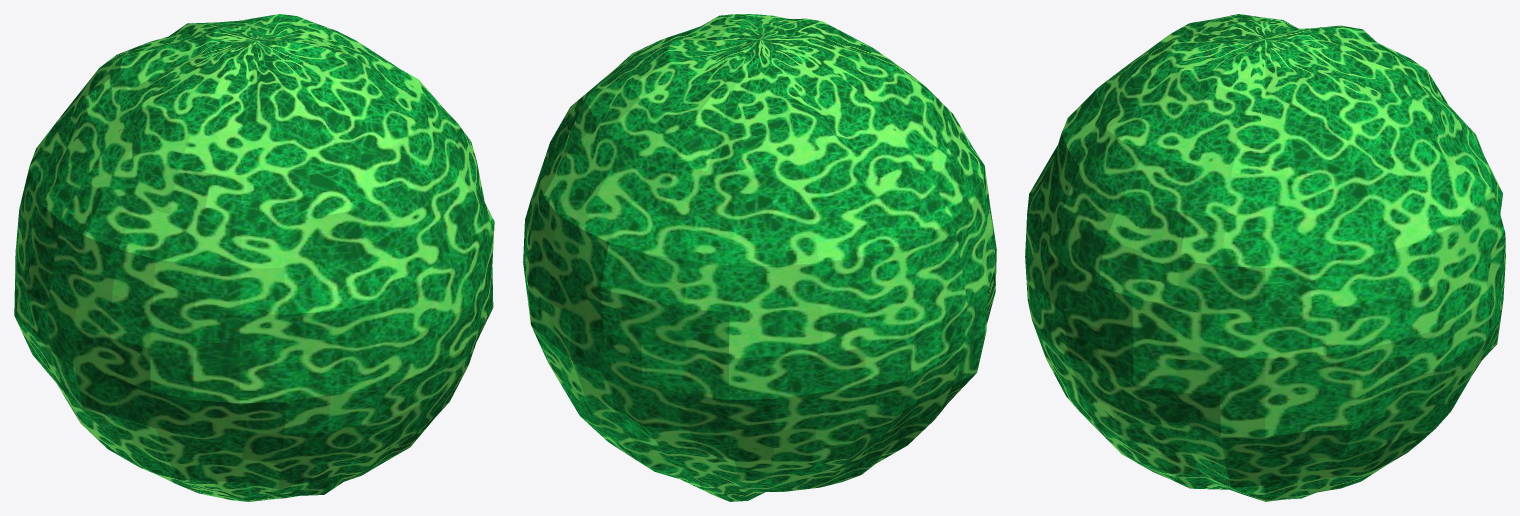
Rendered from plasmaball.obj.
3 views of the same model, side by side, from view 1: azimuth 30°, elevation 25°; view 2: azimuth 150°, elevation 25°; view 3: azimuth 270°, elevation 25° (orthographic).
Visible parts, largest first — view 1: Sphere_Sphere.001; view 2: Sphere_Sphere.001; view 3: Sphere_Sphere.001.
Boxes of the visible parts, x1=… form: Sphere_Sphere.001: x1=14, y1=14, x2=494, y2=501; Sphere_Sphere.001: x1=523, y1=14, x2=996, y2=501; Sphere_Sphere.001: x1=1025, y1=14, x2=1505, y2=501.
Bounding box in the file's own units: 2 × 2 × 2.
Materials: 1 (1 with a texture image).
